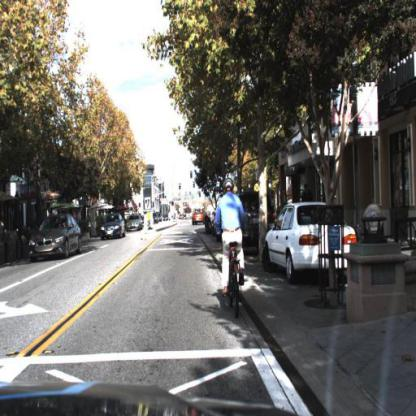biker: (214, 175, 249, 319)
car: (262, 198, 360, 287), (24, 210, 82, 262), (101, 211, 127, 242), (190, 203, 208, 227), (127, 212, 143, 232)
